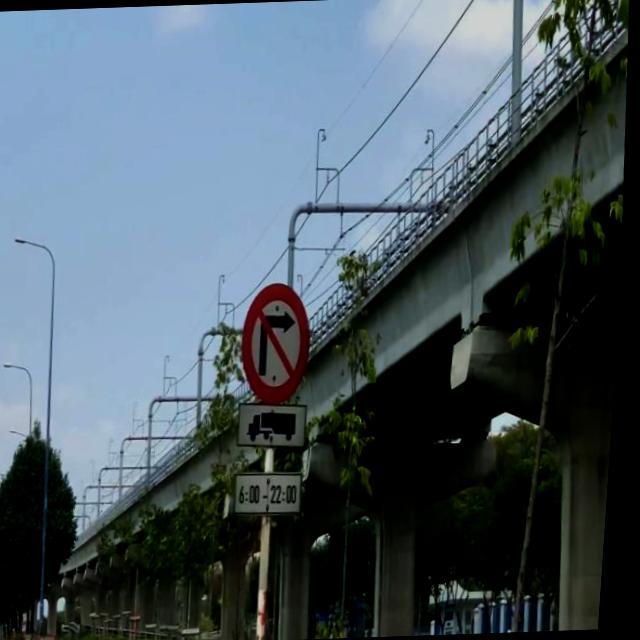Cam re phai: (238, 284, 322, 408)
